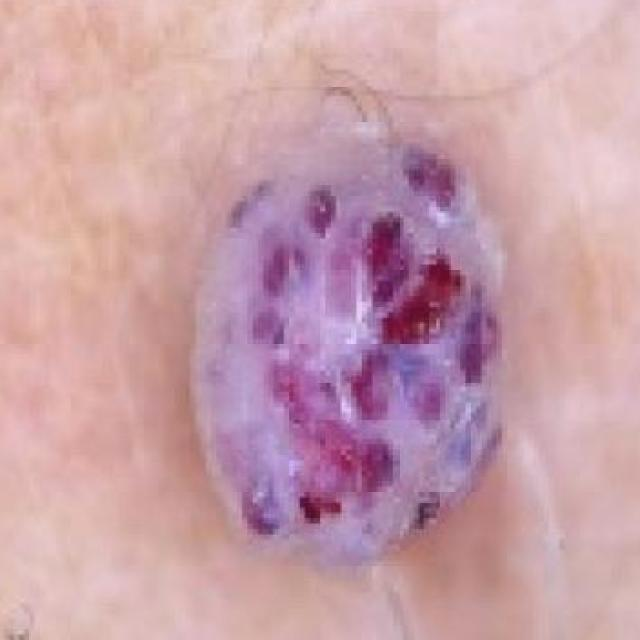VASC: (178, 77, 534, 640)
